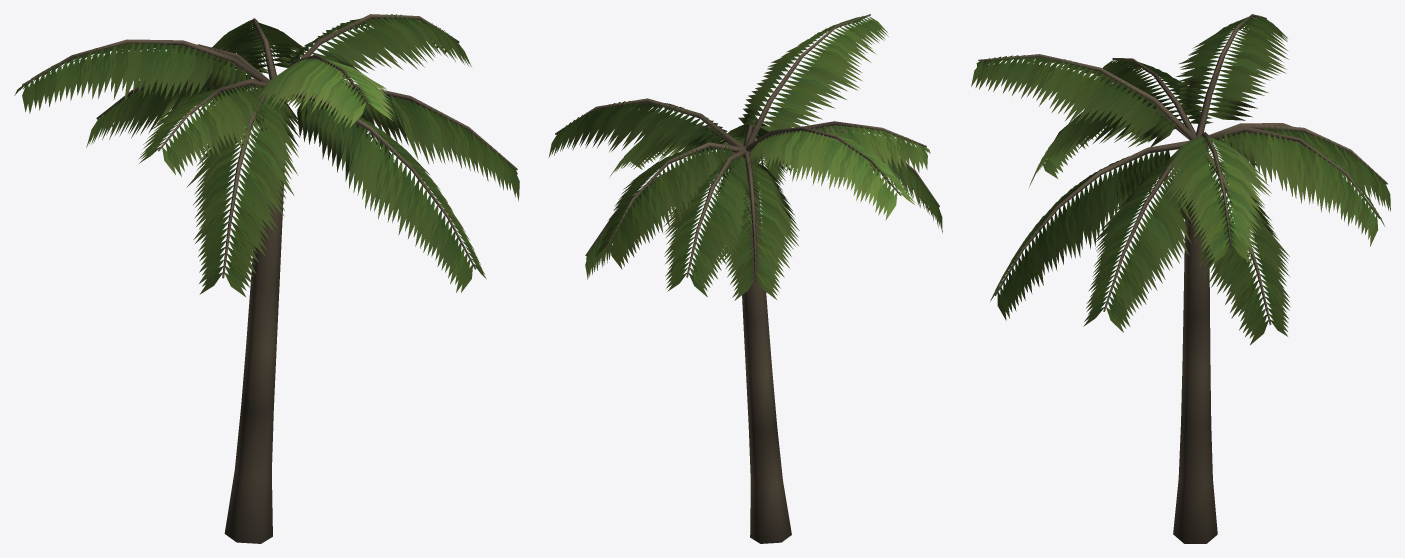
The model's file is palm-c.lod1.glb.
3 views of the same model, side by side, from view 1: azimuth 30°, elevation 25°; view 2: azimuth 150°, elevation 25°; view 3: azimuth 270°, elevation 25° (orthographic). The views are drawn at different scales.
Size of the model in its own units: 5.7 by 6.72 by 5.26.
